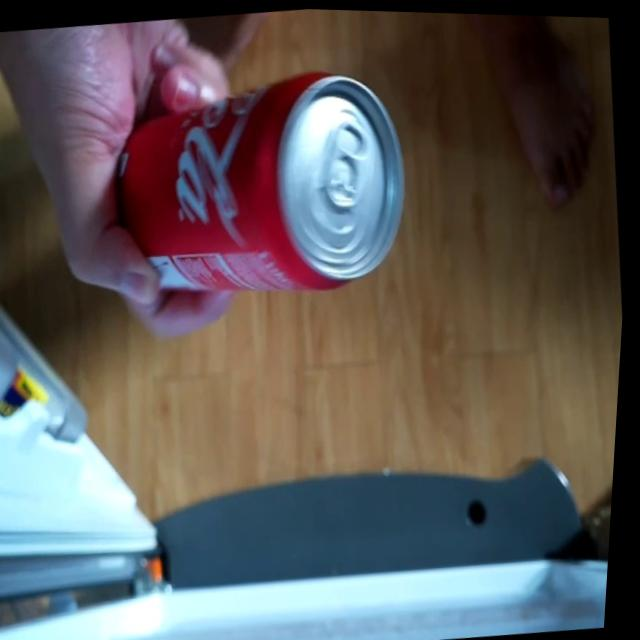coke: (94, 46, 432, 339)
